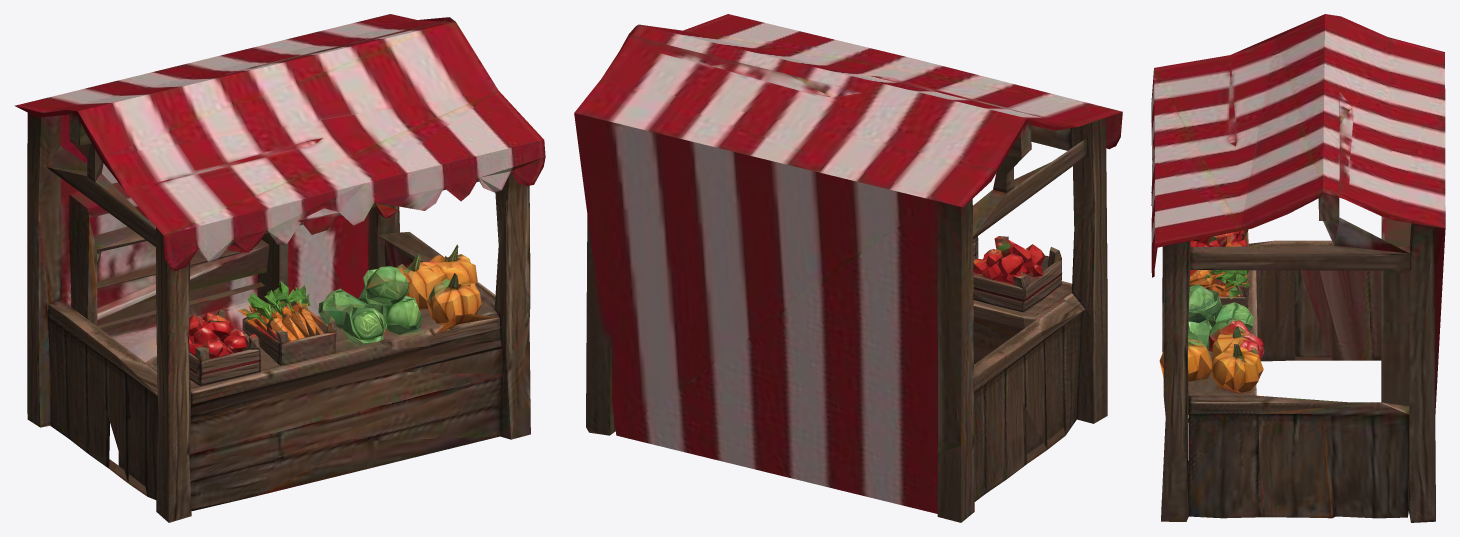
File: stall_produce_3d.glb
The picture shows the model from 3 angles, left to right: view 1: azimuth 30°, elevation 25°; view 2: azimuth 150°, elevation 25°; view 3: azimuth 270°, elevation 25°; orthographic projection. The views are drawn at different scales.
Parts seen in each view (by area): view 1: Mesh_0; view 2: Mesh_0; view 3: Mesh_0.
Part boxes in pixels (x1=…): Mesh_0: x1=14, y1=14, x2=545, y2=522; Mesh_0: x1=574, y1=14, x2=1122, y2=522; Mesh_0: x1=1151, y1=14, x2=1445, y2=522.
Bounding box in the file's own units: 2.84 × 2.5 × 1.98.
1 material, 1 textured.
